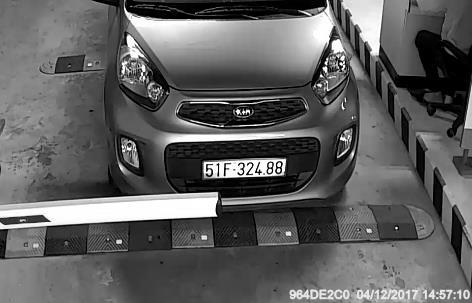License-plate: (195, 141, 300, 197)
